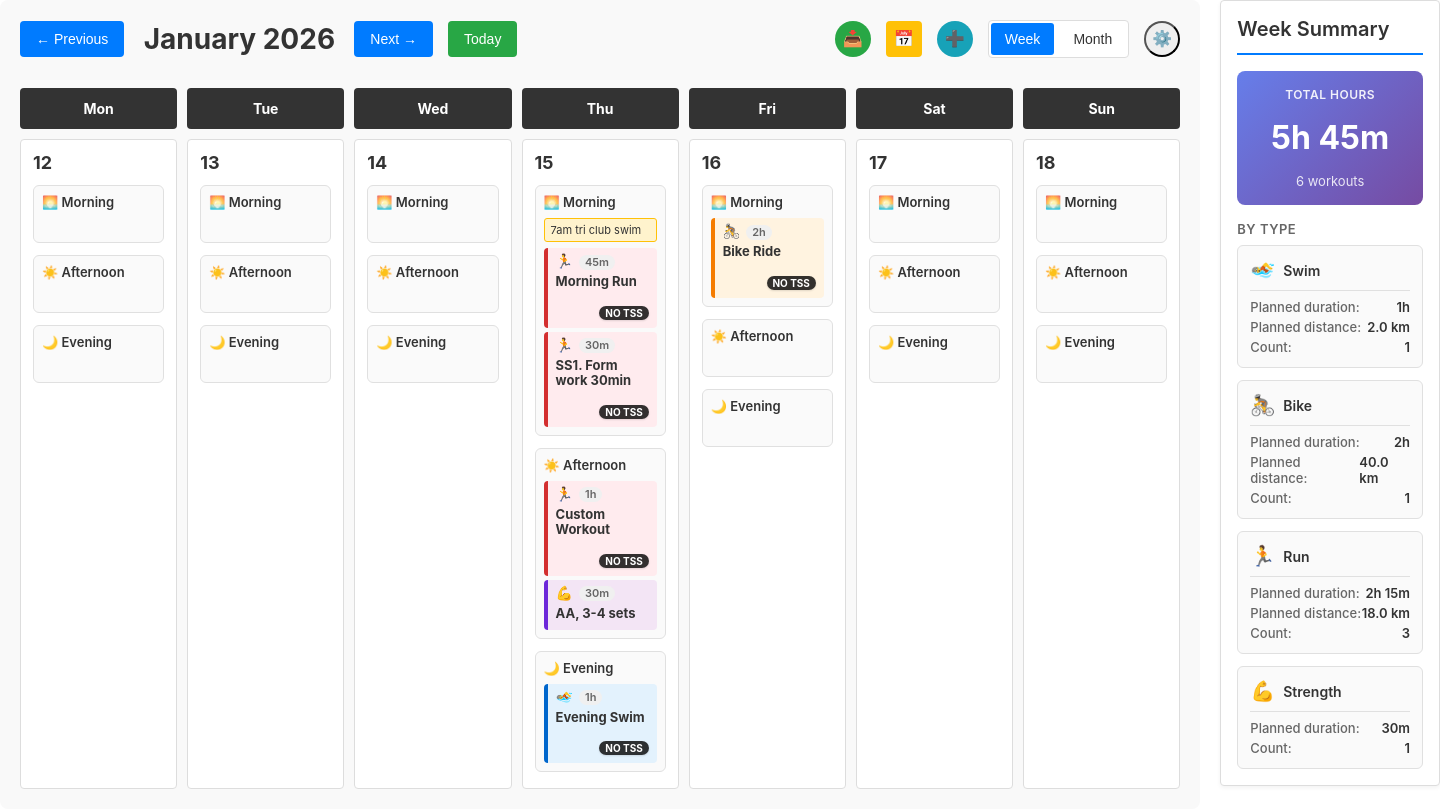
Test: Calendar Component › should allow filtering workouts by source (Friel / Tri club / Other)
Expected: the text "Morning Run" is shown, [556, 273, 637, 289]
Expected: the text "Custom Workout" is shown, [556, 506, 610, 537]
# Open filter menu and toggle Friel off - only Friel workouts should disappear
Click the button named "Open source filters": point(1162, 39) [1144, 21, 1180, 57]
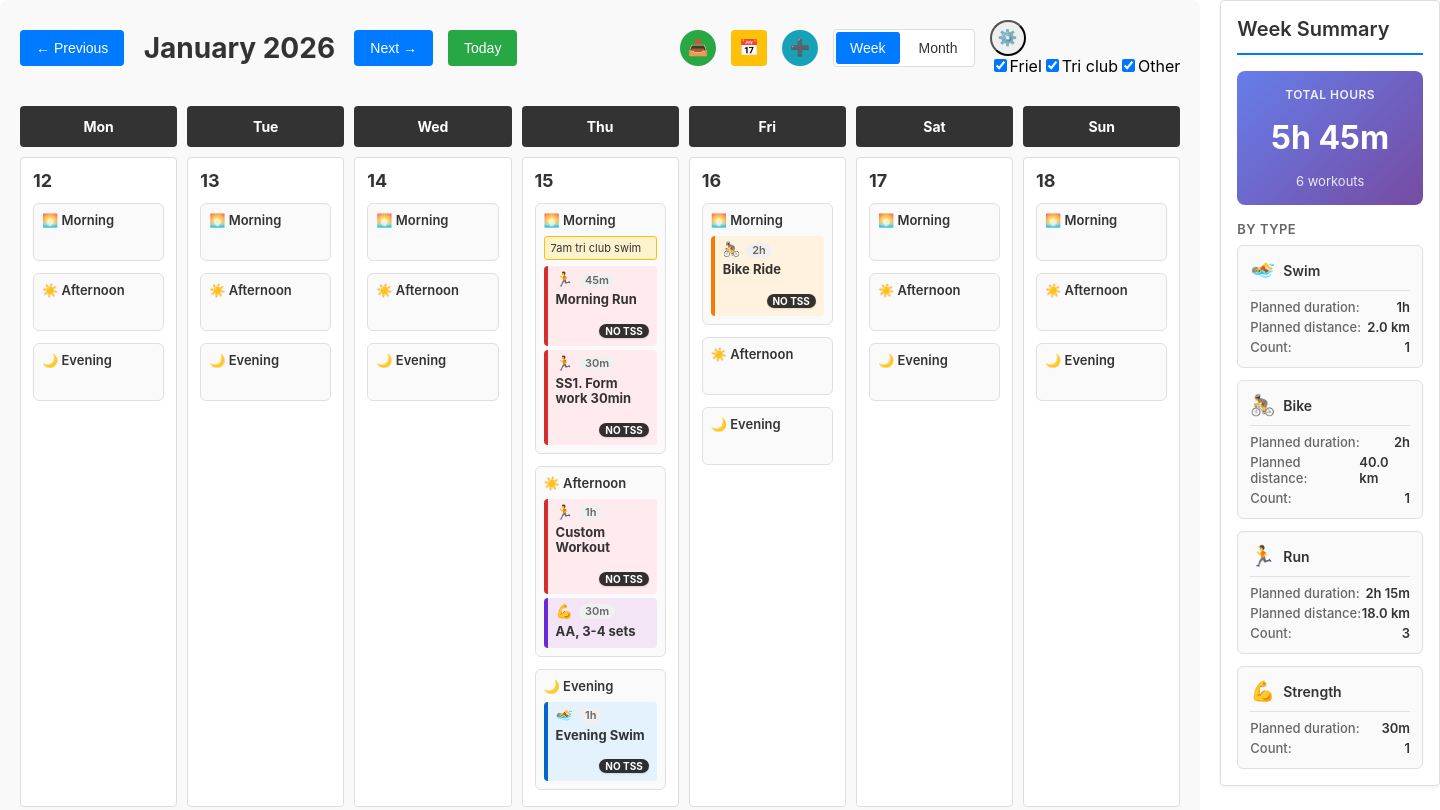
Click the checkbox named "Show Friel plan": point(1000, 66) [994, 59, 1006, 72]
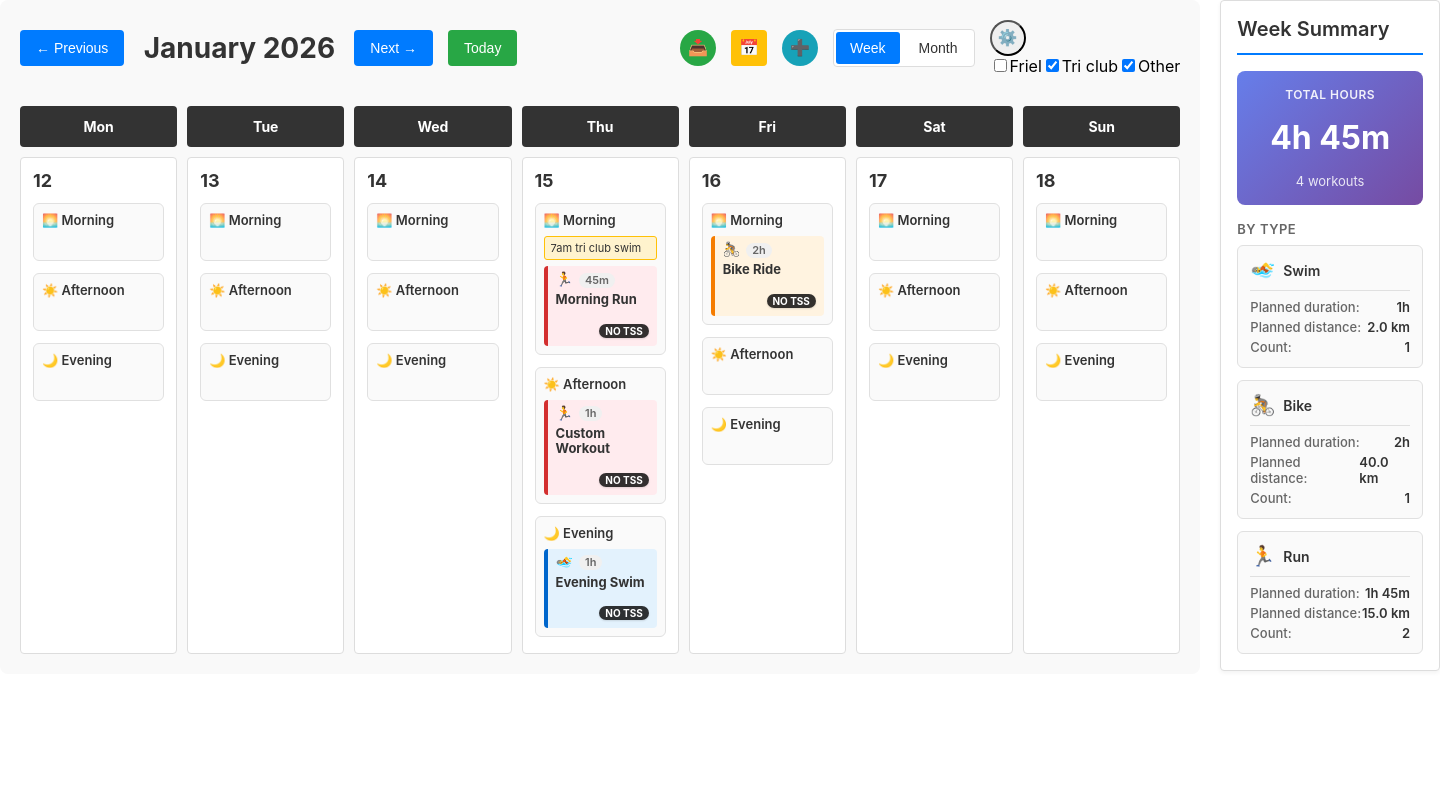
Expected: the text "Morning Run" is shown, [556, 291, 637, 307]
Expected: the button "SS1. Form work 30min" is gone
Expected: the button "AA, 3-4 sets" is gone
# Toggle Other off - custom workouts should disappear
Click the checkbox named "Show Other": point(1128, 66) [1122, 59, 1135, 72]
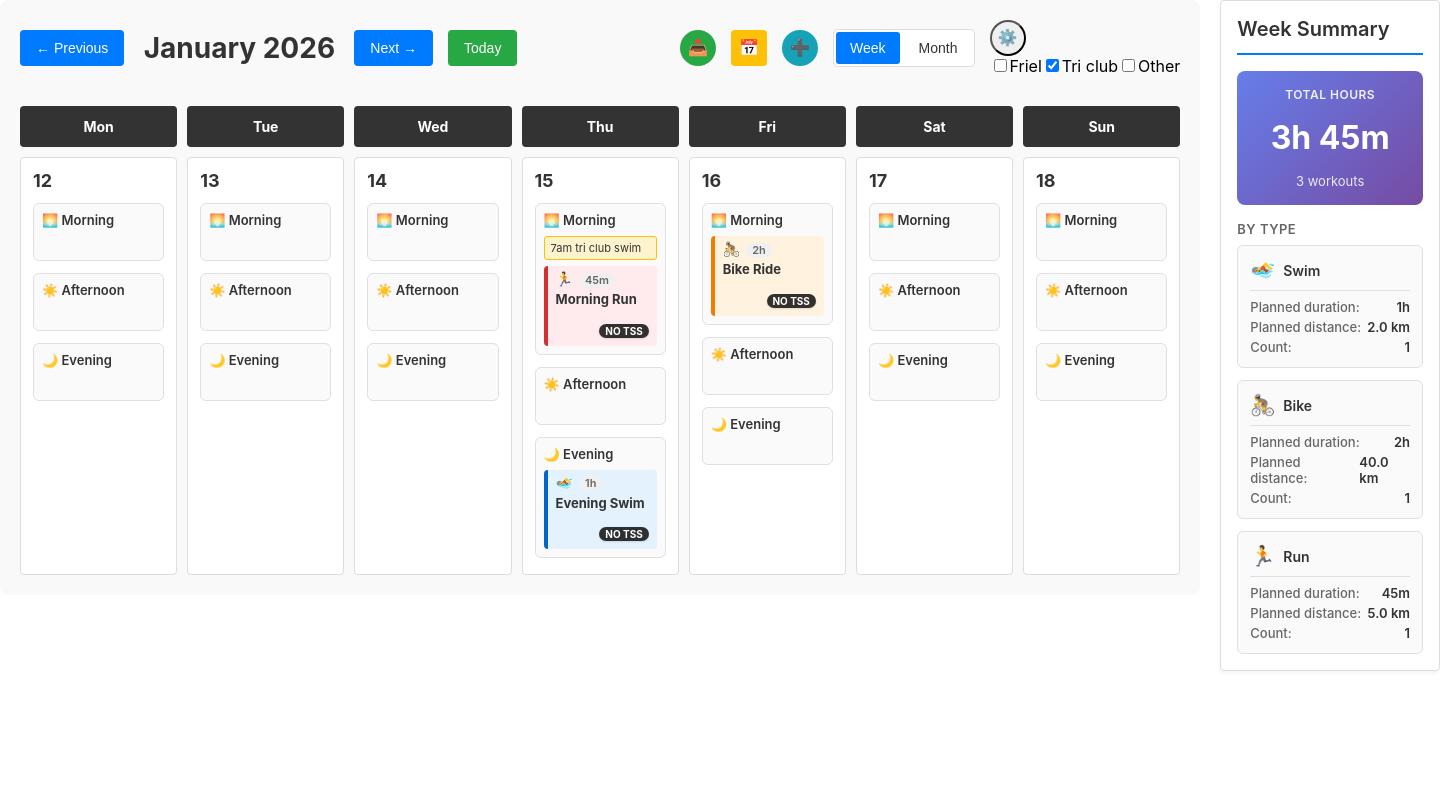
Expected: the button "Custom Workout" is gone
# Toggle Tri club off - tri club workouts should disappear but tri club schedule should remain
Click the checkbox named "Show Tri club": point(1052, 66) [1046, 59, 1059, 72]
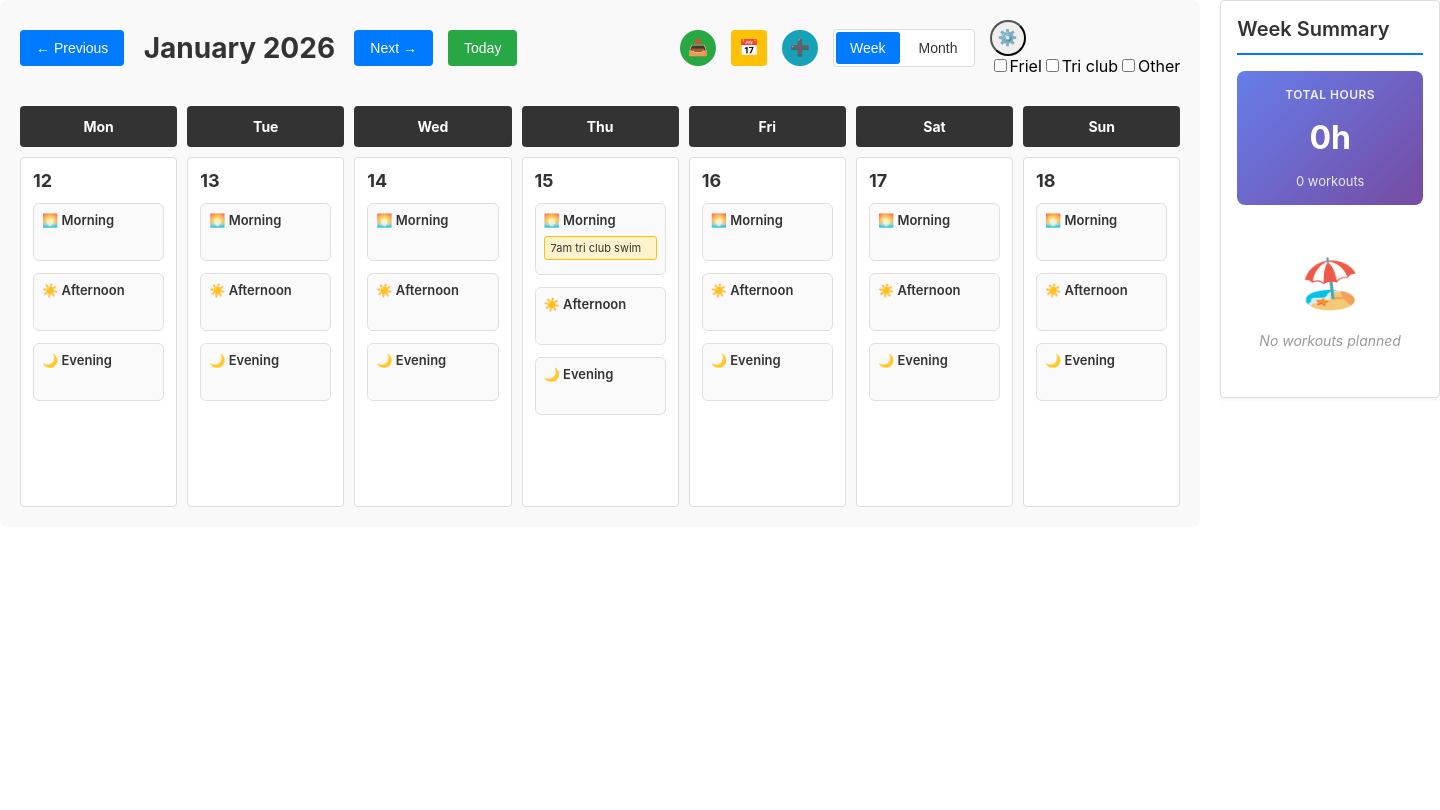
Expected: the text "7am tri club swim" is shown, [544, 236, 657, 260]
Expected: the button "Morning Run" is gone
